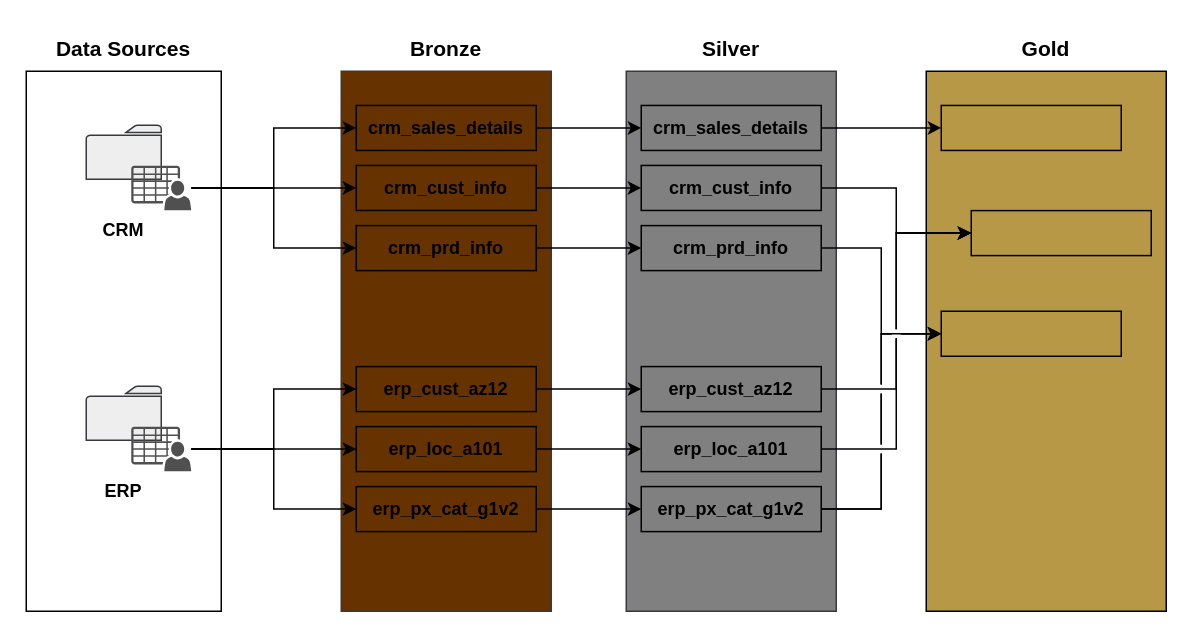
Some shapes in this 1193 by 638 pixel diagram are drawn without their labels. Each missing label, with the centre of its shape:
"dim_customers" goes at point (1060, 232).
"dim_products" goes at point (1030, 333).
"fact_sales" goes at point (1030, 127).
